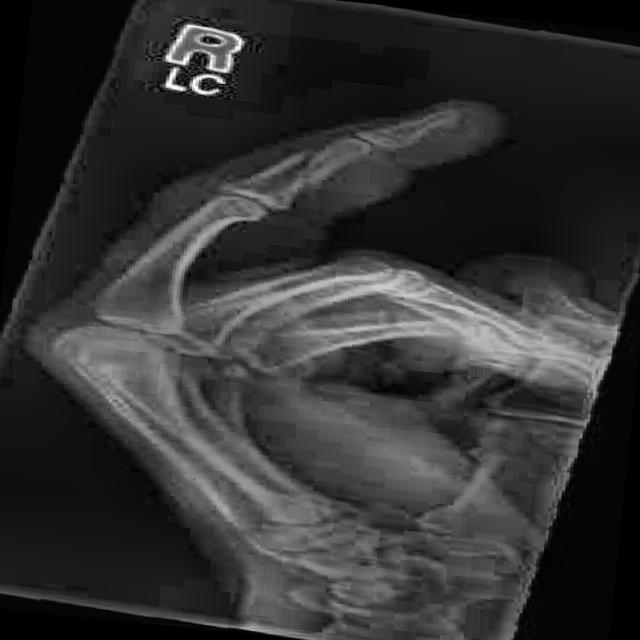fingers positive: (259, 137, 353, 206)
